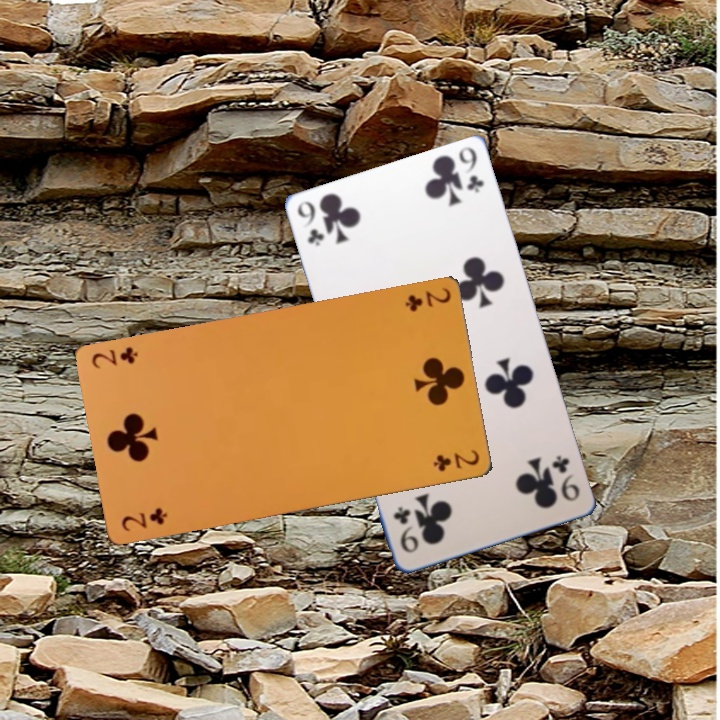2c: (395, 285, 453, 316), (424, 447, 482, 478), (113, 506, 171, 537), (84, 344, 141, 375)
9c: (387, 504, 424, 564), (454, 145, 491, 205), (293, 197, 330, 257), (548, 452, 585, 511)
